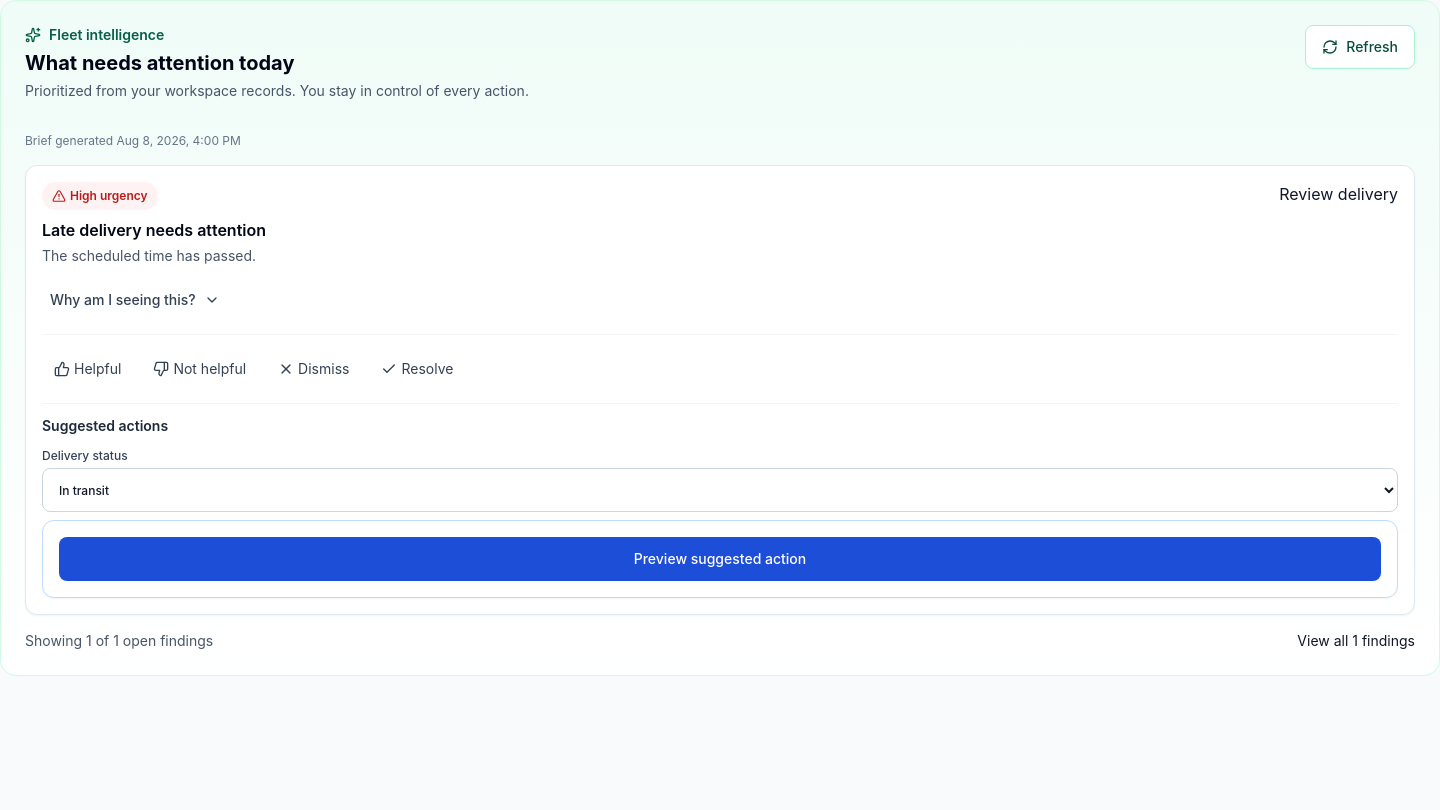
Test: IntelligenceBrief › optimistically removes a dismissed finding and rolls back with an error on failure
Expected: the heading "Late delivery needs attention" is shown, [42,218,266,242]
Click the button with aria-label "dismiss late delivery": [314, 369] box [266,347,361,391]
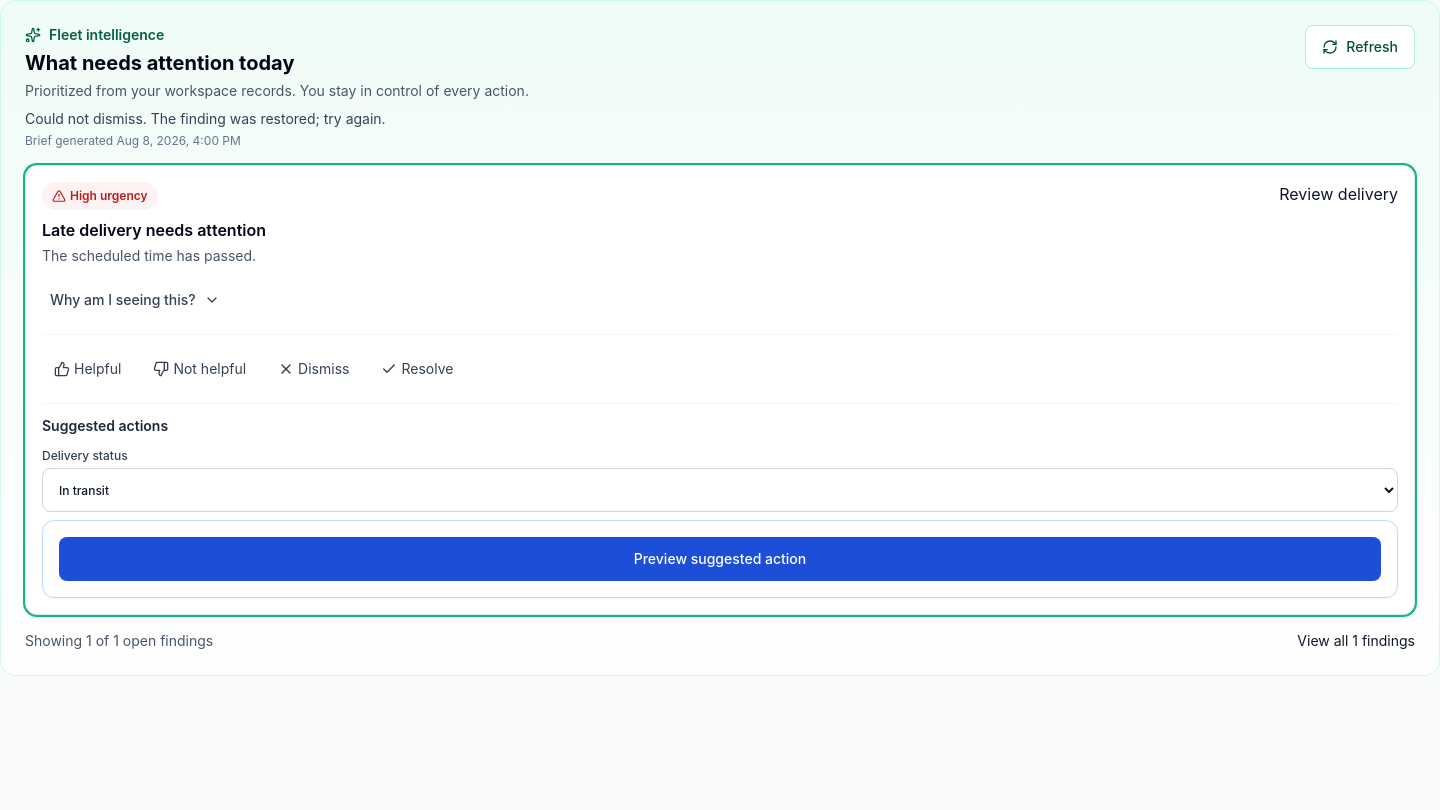
Expected: the heading "Late delivery needs attention" is shown, [42,218,266,242]
Result: the text "Could not dismiss. The finding was restored; try again." is shown at [25,110,386,127]
